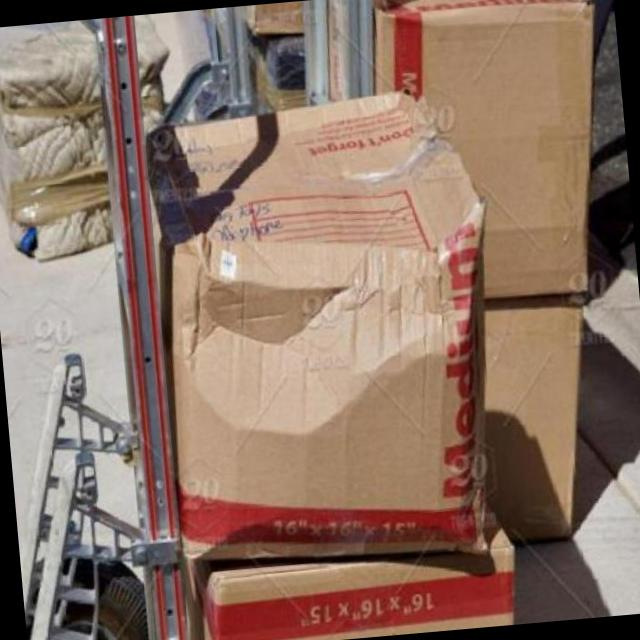box: (137, 85, 510, 582)
